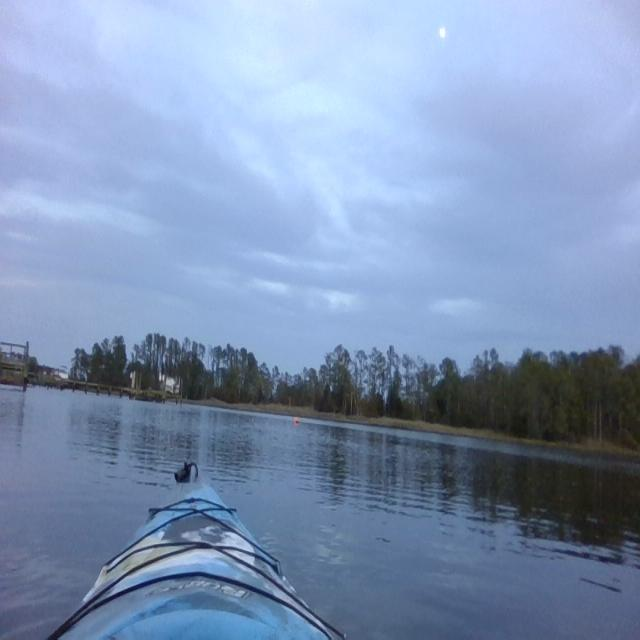Buoy: (292, 414, 300, 424)
